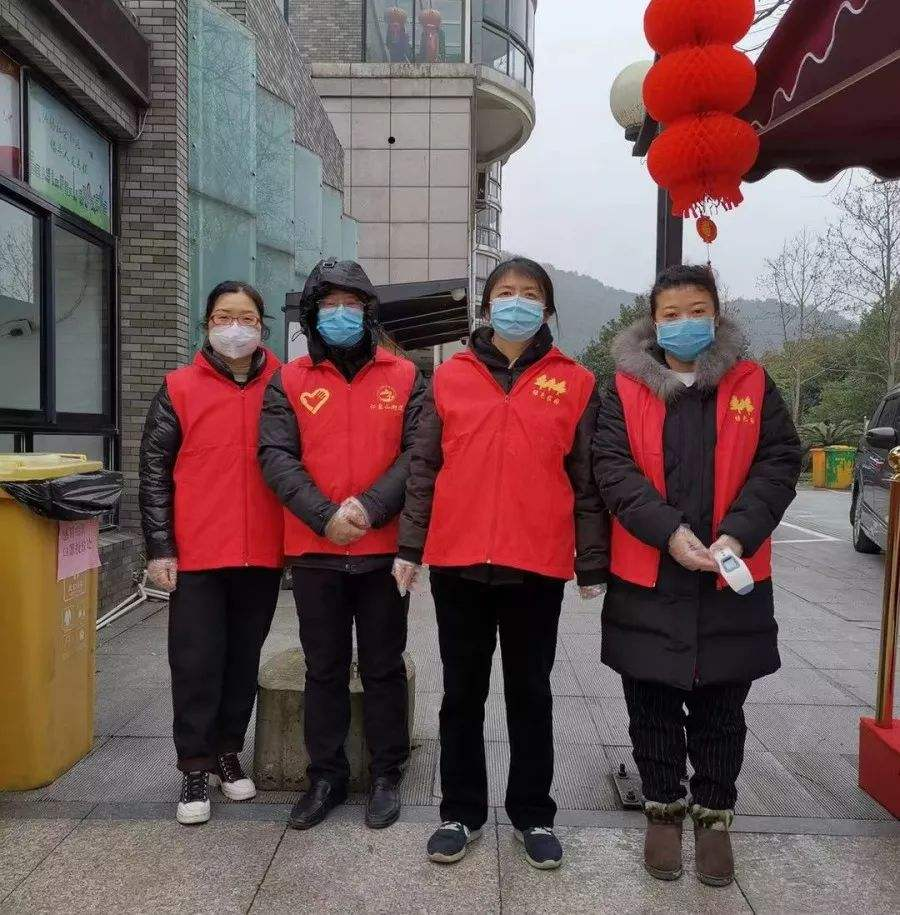Mask: (308, 279, 371, 363), (650, 285, 718, 359), (202, 287, 260, 370), (487, 270, 551, 343)
